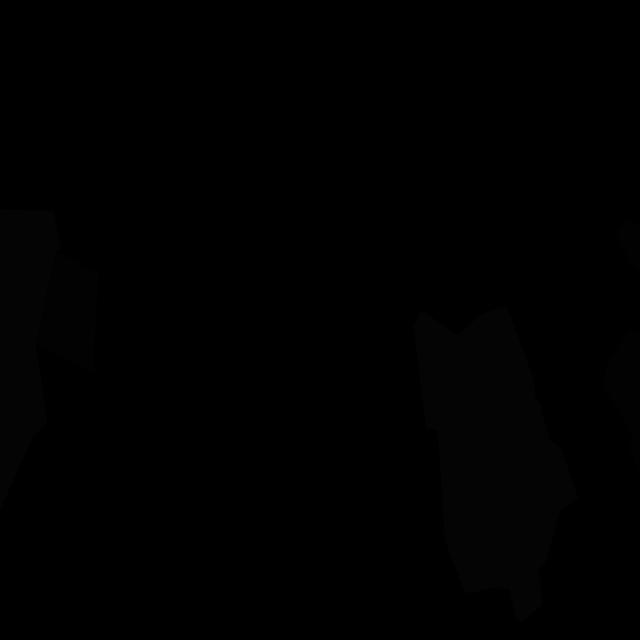cardboard: (36, 250, 99, 373), (604, 331, 640, 471), (615, 219, 640, 272)
soft_plastic: (414, 306, 578, 622), (0, 209, 61, 511)
